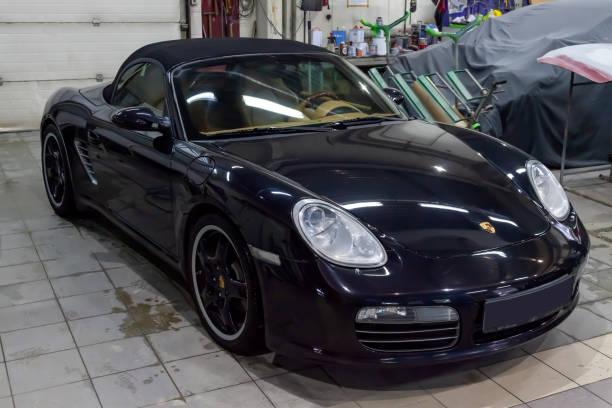porsche: (475, 217, 501, 239)
